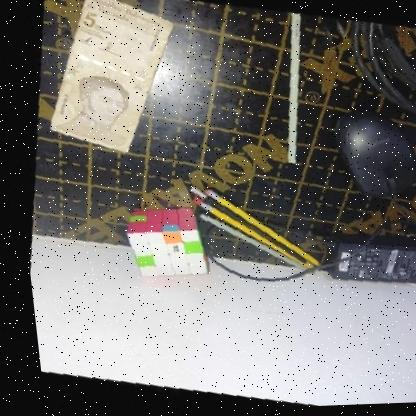vef_front: (32, 0, 189, 163)
